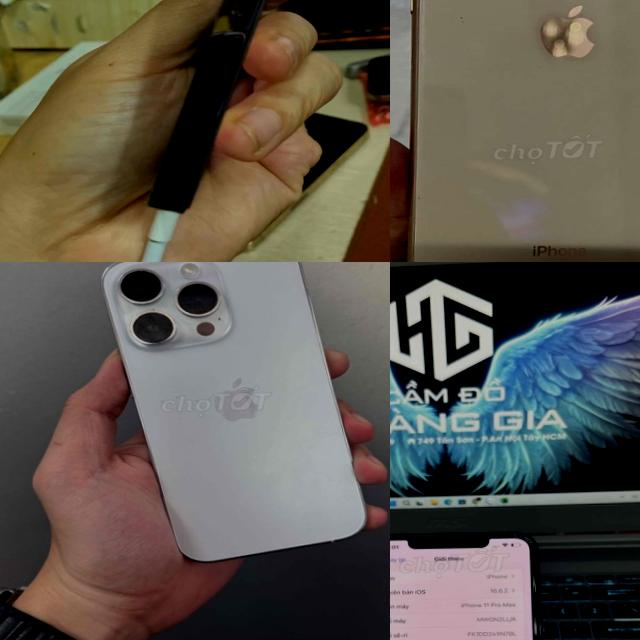gen_11: (390, 532, 541, 640)
gen_14: (96, 262, 380, 566), (123, 0, 368, 227)
gen_7_8: (390, 0, 640, 262)
scratch: (211, 59, 256, 114)
